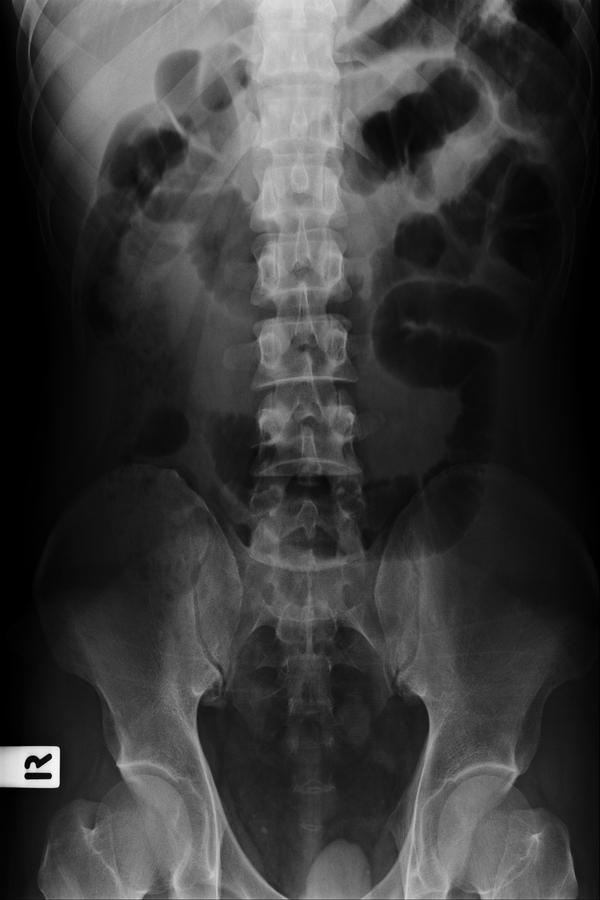not lumbar scoliosis: (242, 201, 366, 586)
